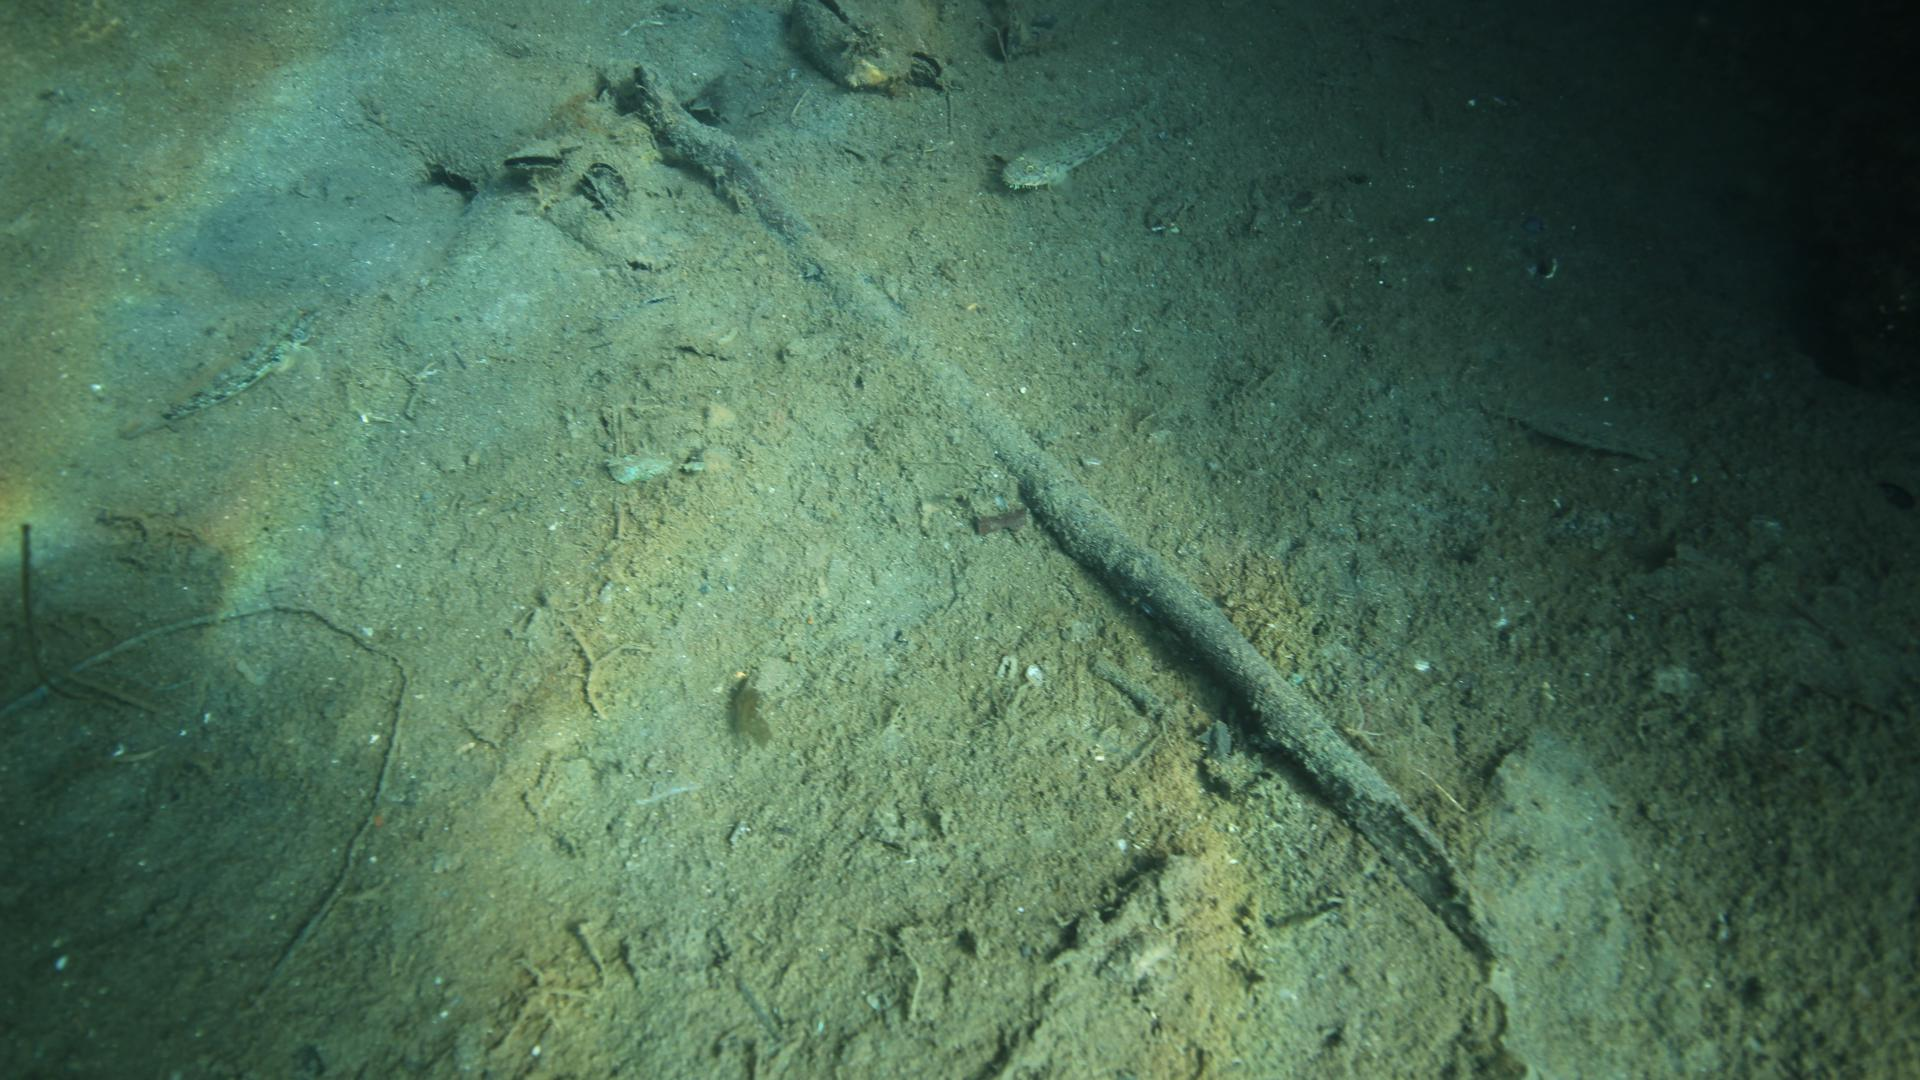wood: (629, 55, 1509, 965)
